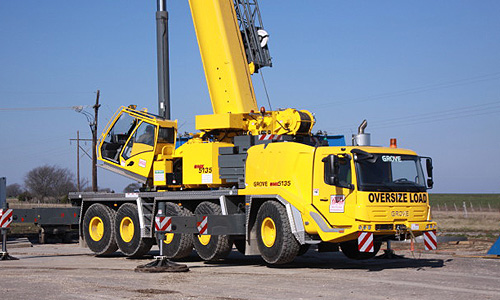truck: (72, 1, 440, 267)
